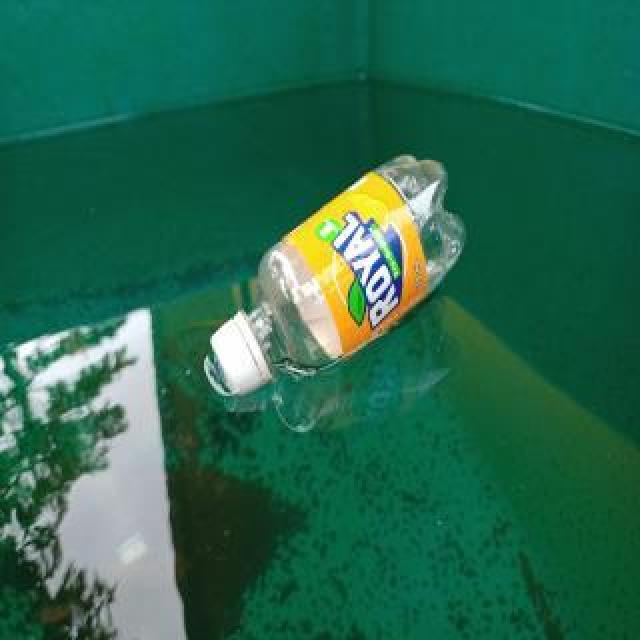bottle: (208, 150, 468, 394)
